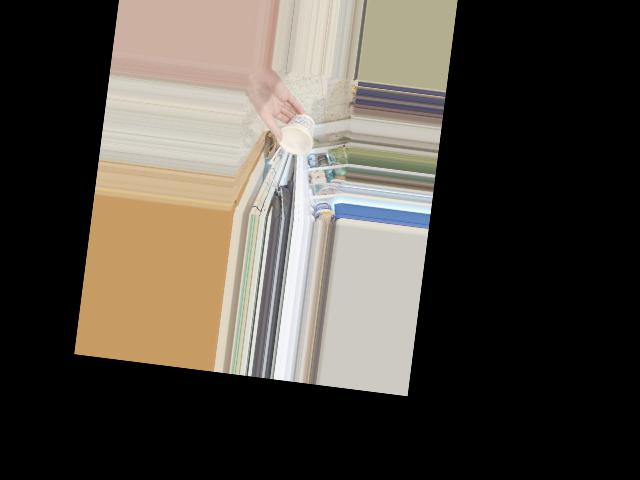cotage: (276, 113, 314, 151)
